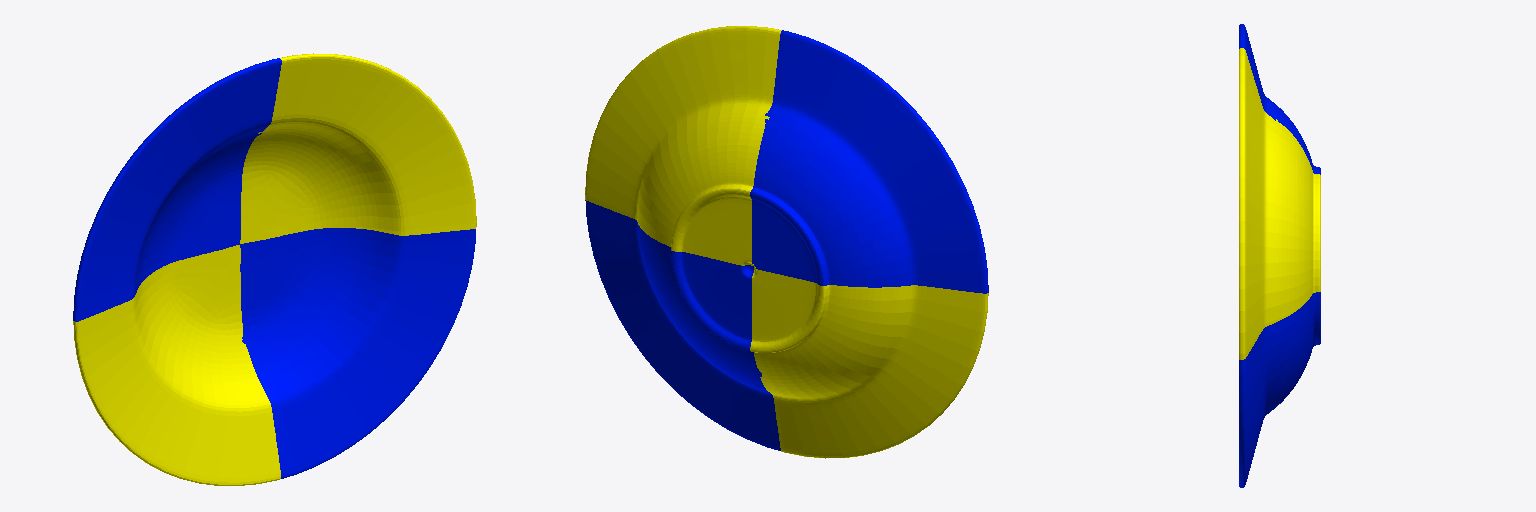
3 views of the same model, side by side, from view 1: azimuth 30°, elevation 25°; view 2: azimuth 150°, elevation 25°; view 3: azimuth 270°, elevation 25° (orthographic).
Parts seen in each view (by area): view 1: spinning_plate; view 2: spinning_plate; view 3: spinning_plate.
Boxes of the visible parts, x1=… form: spinning_plate: x1=73, y1=53, x2=476, y2=485; spinning_plate: x1=585, y1=26, x2=988, y2=458; spinning_plate: x1=1239, y1=24, x2=1320, y2=487.
Size of the model in its own units: 0.151 by 0.151 by 0.0267.
Materials: 1 (1 with a texture image).